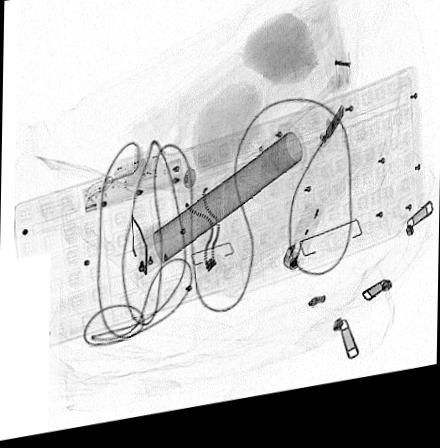Lighter: (283, 214, 323, 281)
